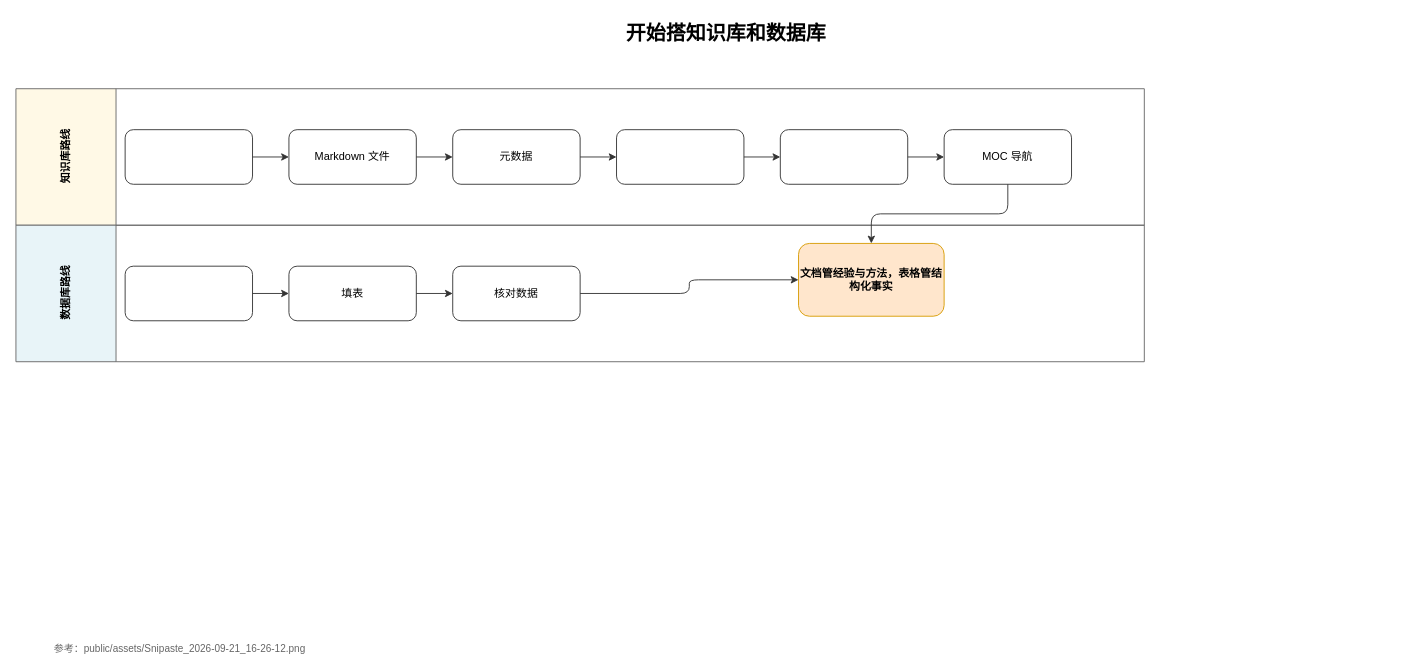
Some shapes in this 1415 by 672 pixel diagram are drawn without their labels. Here are the shapes that lost their labels. From the top down, the centre of each, then its label:
(x=188, y=156): MarkItDown 清洗
(x=680, y=156): 目录分类
(x=843, y=156): WikiLink
(x=188, y=293): 建表
